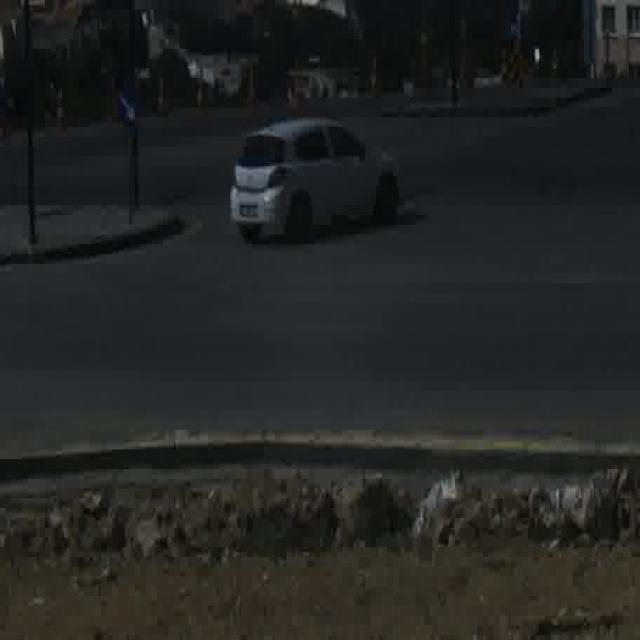Car: (228, 115, 398, 239)
